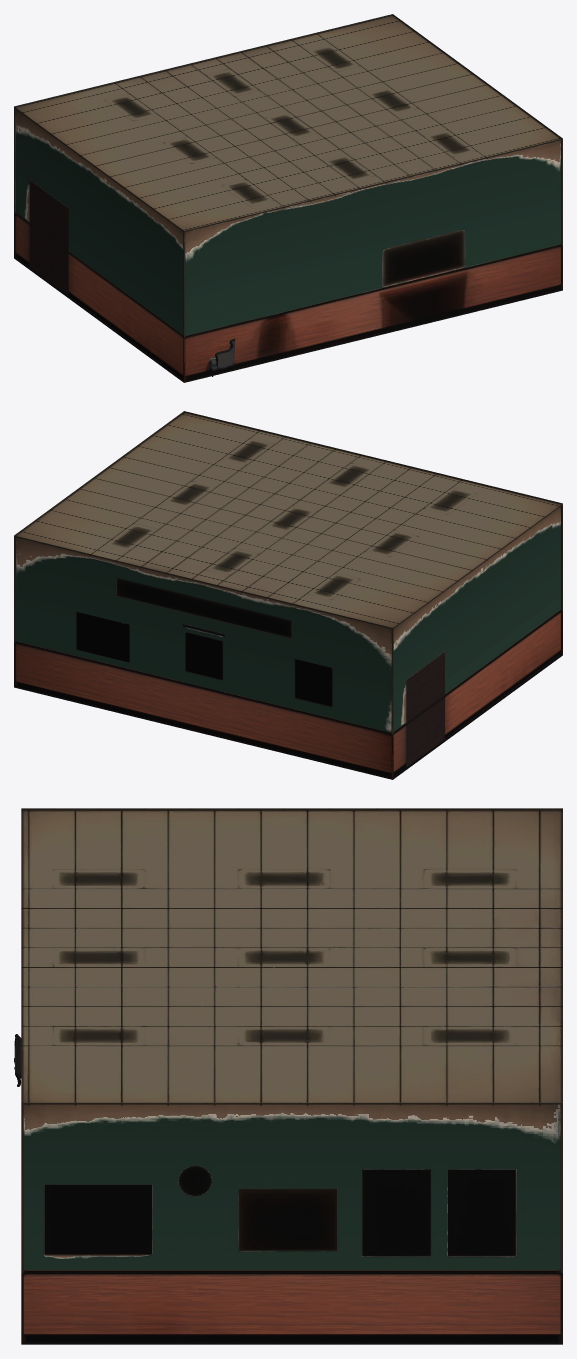
The model's file is club2.glb.
The picture shows the model from 3 angles, top to bottom: view 1: azimuth 30°, elevation 25°; view 2: azimuth 150°, elevation 25°; view 3: azimuth 270°, elevation 25°; orthographic projection. The views are drawn at different scales.
Parts seen in each view (by area): view 1: bake_ceil, bake_wallB, bake_wallL, bake_props, bake_floor, bake_furn; view 2: bake_ceil, bake_wallF, bake_wallL, bake_board, bake_props, bake_floor; view 3: bake_ceil, bake_wallR, bake_floor, bake_wallB, bake_wallF.
Part boxes in pixels (x1,y1,x2,y2): bake_ceil: [14, 14, 562, 232]; bake_wallB: [182, 140, 560, 381]; bake_wallL: [15, 109, 186, 381]; bake_props: [29, 180, 68, 295]; bake_floor: [14, 258, 562, 382]; bake_furn: [209, 338, 235, 376]; bake_ceil: [14, 411, 562, 629]; bake_wallF: [16, 537, 394, 778]; bake_wallL: [390, 506, 561, 778]; bake_board: [76, 612, 331, 706]; bake_props: [406, 652, 444, 767]; bake_floor: [14, 655, 562, 779]; bake_ceil: [21, 808, 562, 1105]; bake_wallR: [23, 1104, 560, 1343]; bake_floor: [21, 1343, 562, 1344]; bake_wallB: [21, 1104, 25, 1343]; bake_wallF: [558, 1104, 562, 1343].
Size of the model in its own units: 9 by 3.45 by 7.09.
9 materials, 9 textured.
